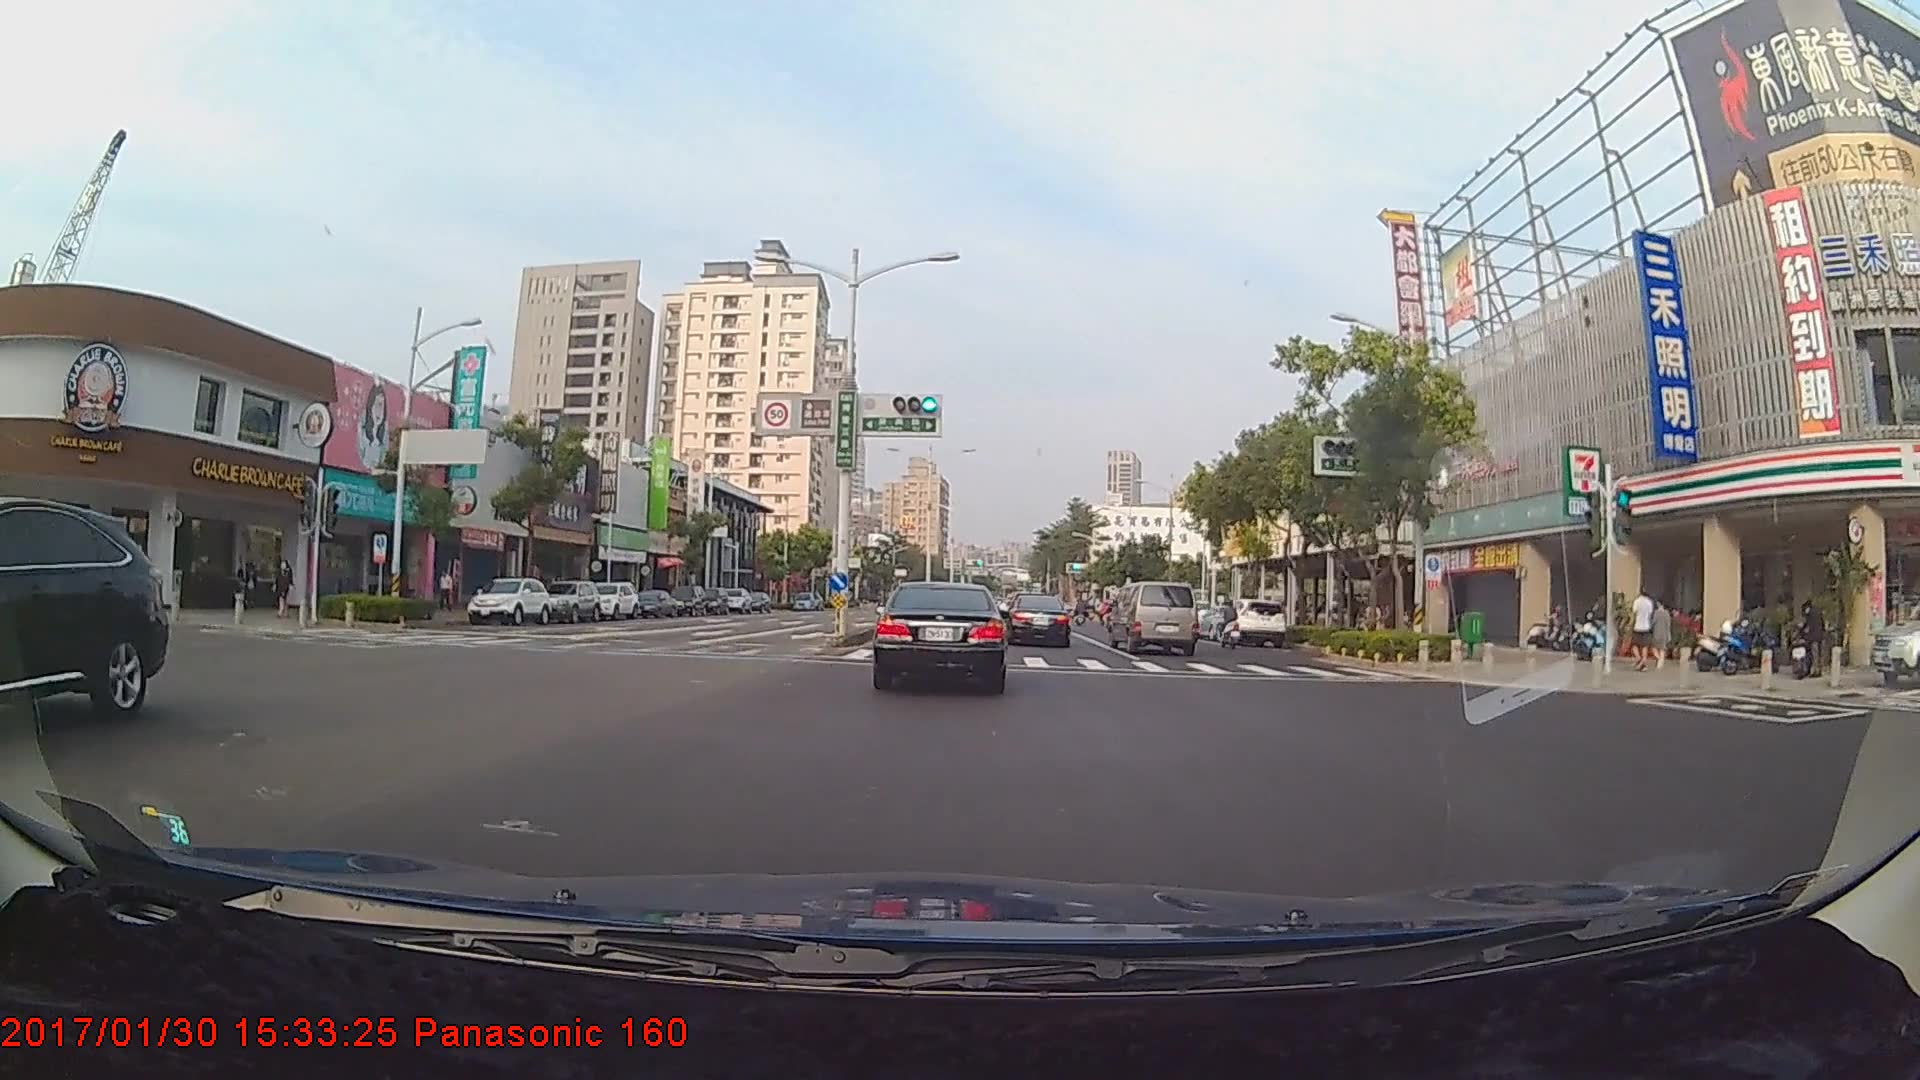pedestrian: (1624, 581, 1652, 674), (1649, 595, 1674, 672), (276, 560, 296, 621), (437, 569, 458, 615)
rider: (1211, 597, 1244, 649)
vehicle: (0, 503, 166, 736), (872, 580, 1007, 692), (1111, 581, 1198, 655), (462, 573, 553, 623), (1005, 594, 1072, 648), (1217, 595, 1286, 645), (540, 579, 601, 622), (585, 581, 641, 622), (631, 589, 675, 617)
